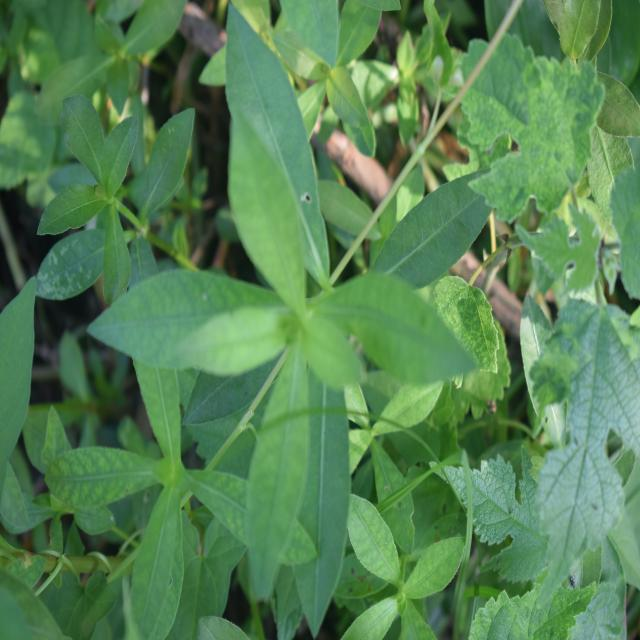Alligatorweed: (68, 92, 239, 314)
